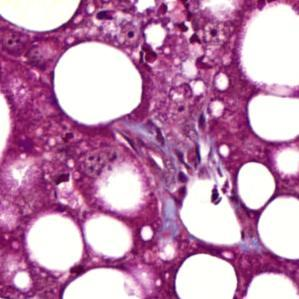steatosis: (49, 41, 144, 124), (235, 161, 278, 211)
